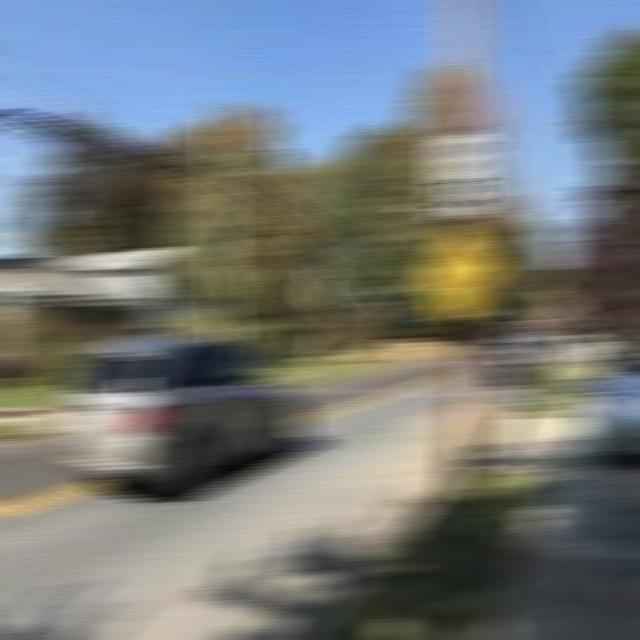speedLimit25: (430, 136, 484, 216)
